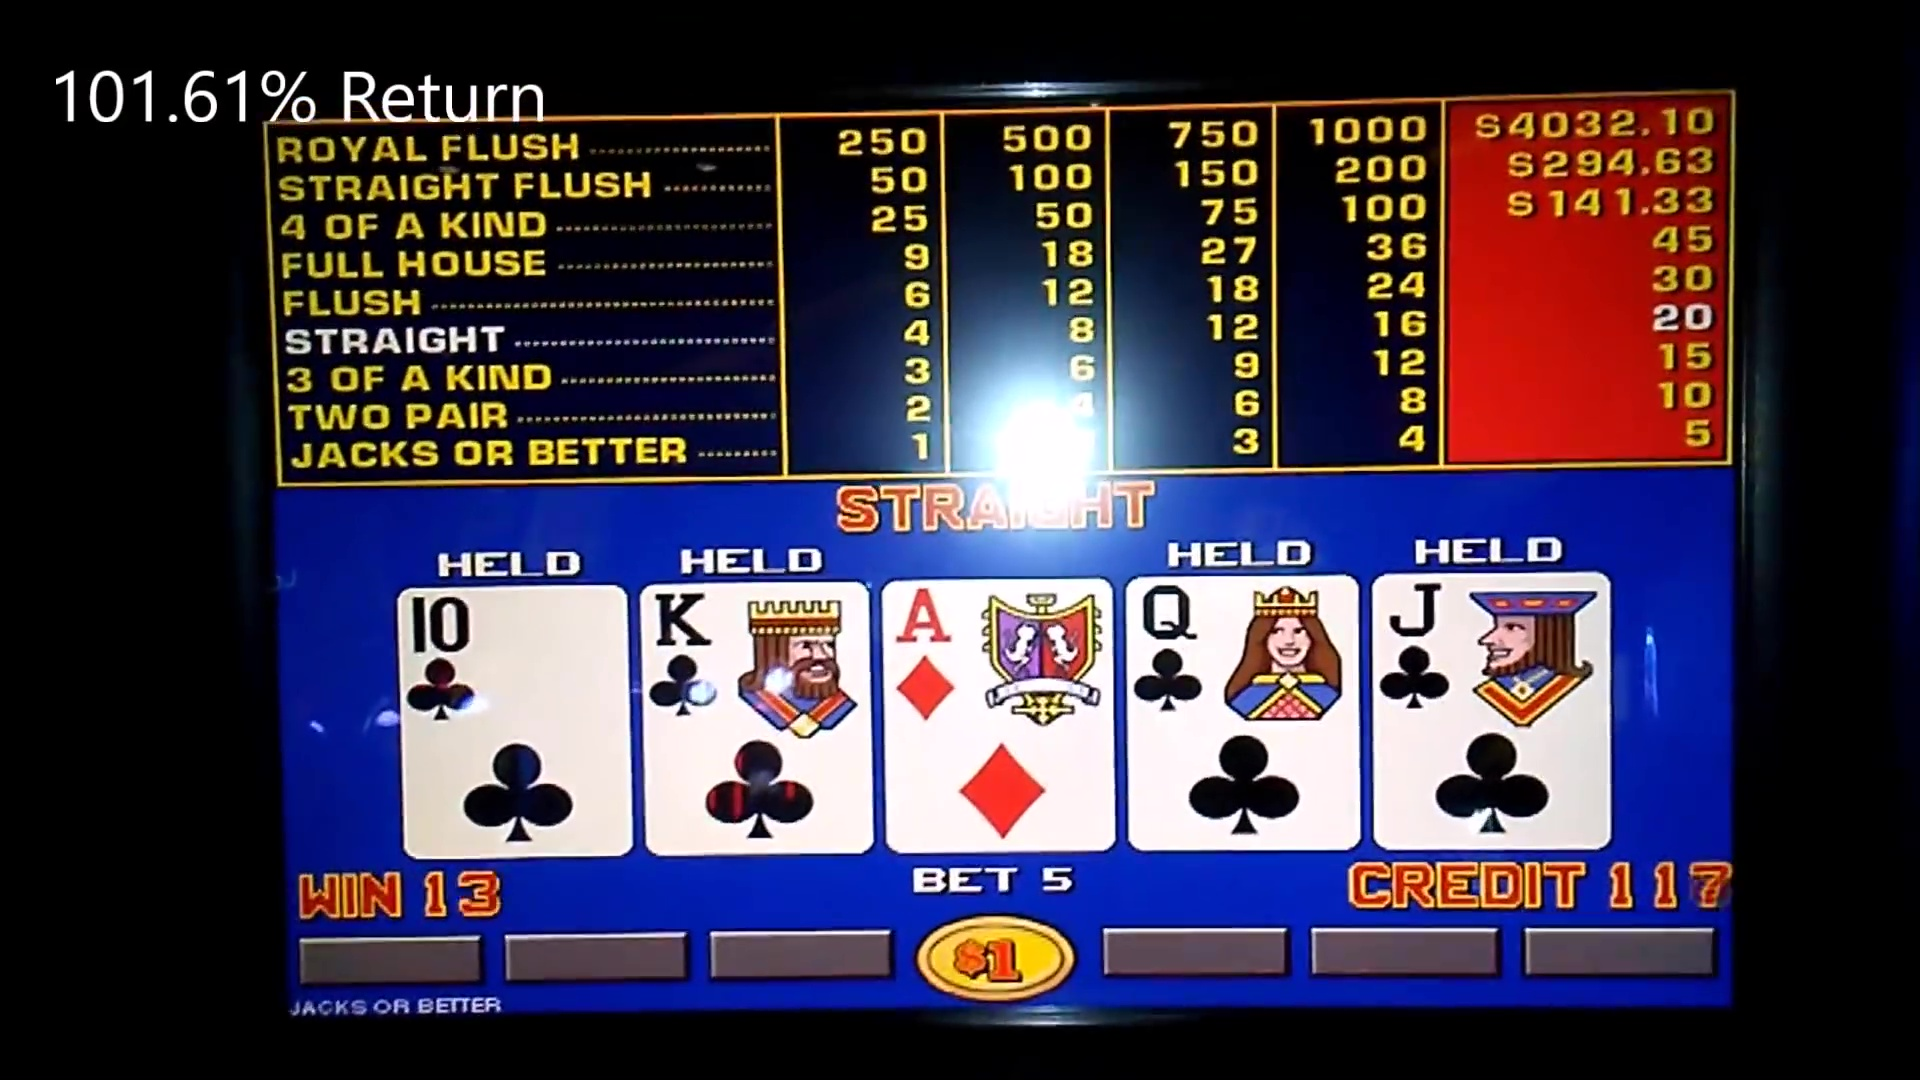CJ: (1374, 578, 1604, 712)
CK: (644, 580, 864, 717)
CQ: (1127, 578, 1361, 715)
CT: (401, 584, 632, 717)
DA: (891, 578, 1112, 713)
